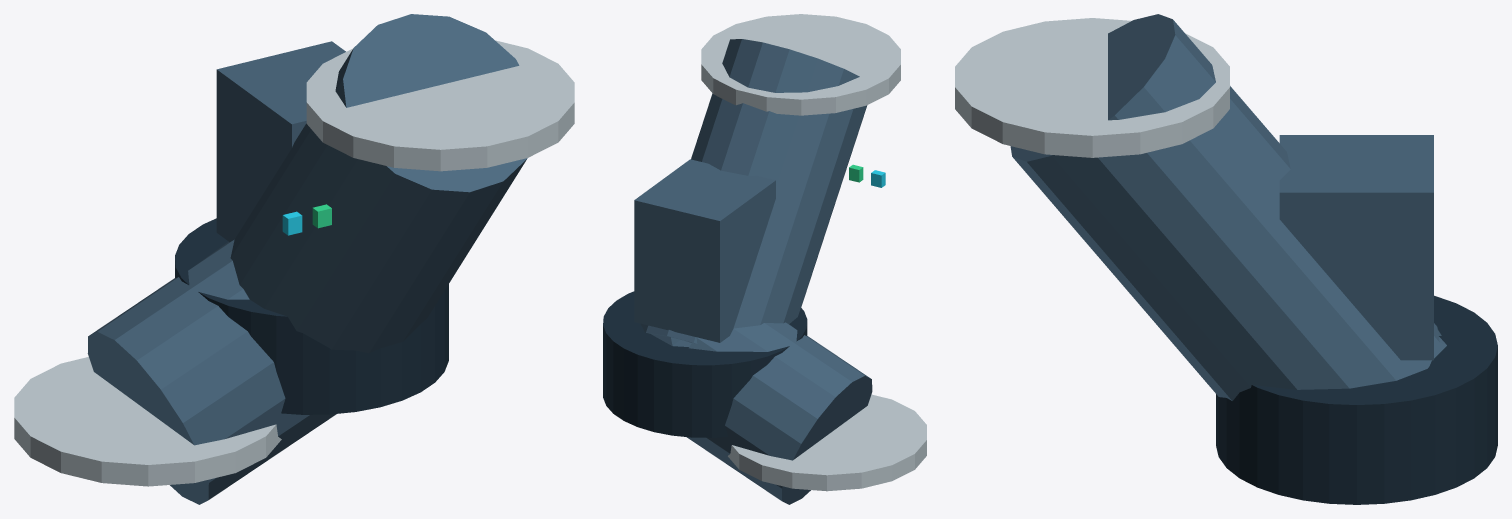
Rendered from 19_L78_CapVacuumExhaustThrottle.fbx.
The picture shows the model from 3 angles, left to right: view 1: azimuth 30°, elevation 25°; view 2: azimuth 150°, elevation 25°; view 3: azimuth 270°, elevation 25°; orthographic projection. The views are drawn at different scales.
Visible parts, largest first — view 1: CapVacuumExhaustThrottle; view 2: CapVacuumExhaustThrottle; view 3: CapVacuumExhaustThrottle.
Part boxes in pixels (x1=…): CapVacuumExhaustThrottle: x1=14, y1=14, x2=574, y2=504; CapVacuumExhaustThrottle: x1=603, y1=14, x2=926, y2=504; CapVacuumExhaustThrottle: x1=955, y1=14, x2=1497, y2=504.
Bounding box in the file's own units: 108 × 132 × 123.
